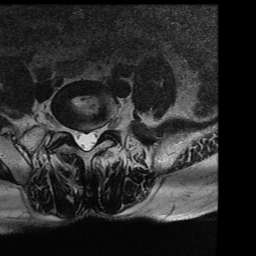CCS_normal: (82, 122, 90, 156)
LFS_stenosis: (98, 114, 107, 139)
LLS_normal: (90, 119, 98, 151)
RFS_stenosis: (64, 117, 73, 141)
RLS_normal: (73, 119, 82, 153)
